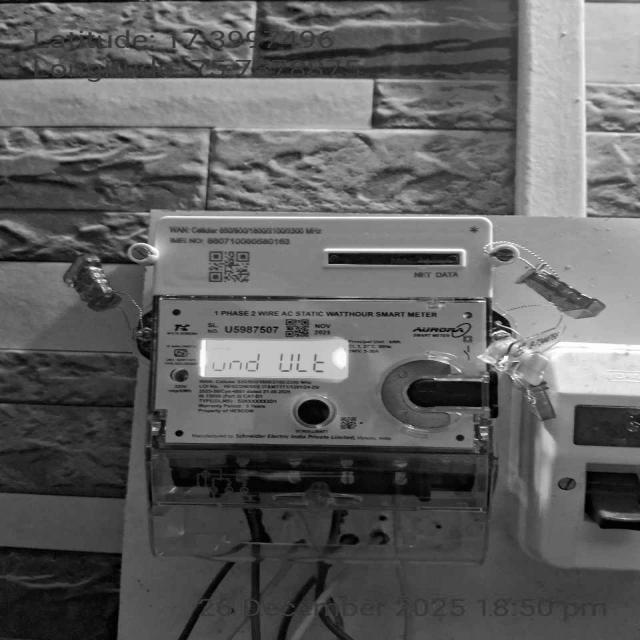meter: (153, 213, 492, 449)
